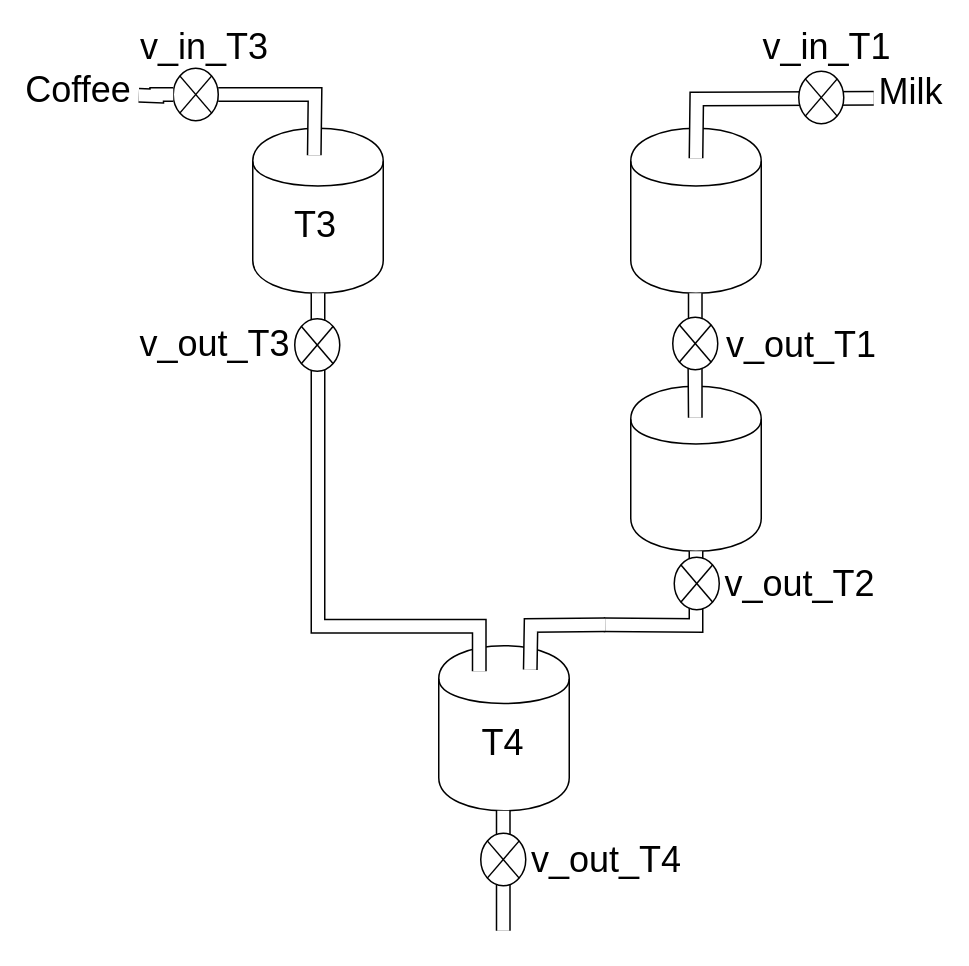
This 969x966 diagram has some shape labels left out. Each missing label, with the centre of its shape:
"T1" belongs at (x=695, y=210).
"T2" belongs at (x=695, y=468).
